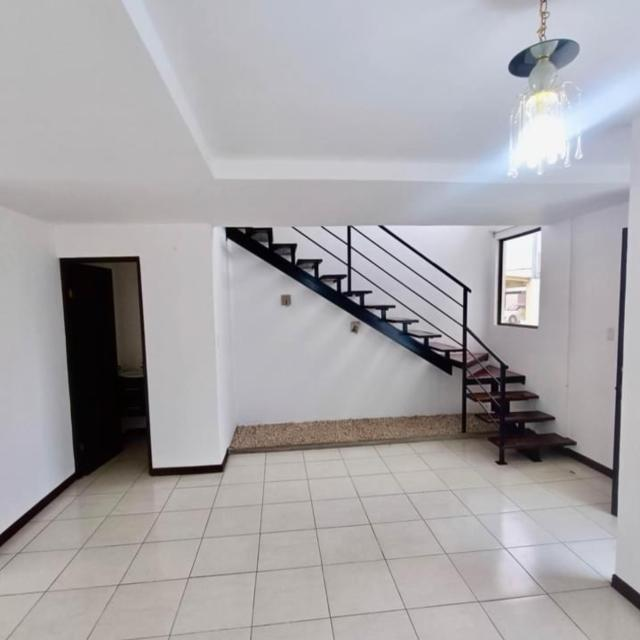OpenDoor: (58, 250, 152, 481)
